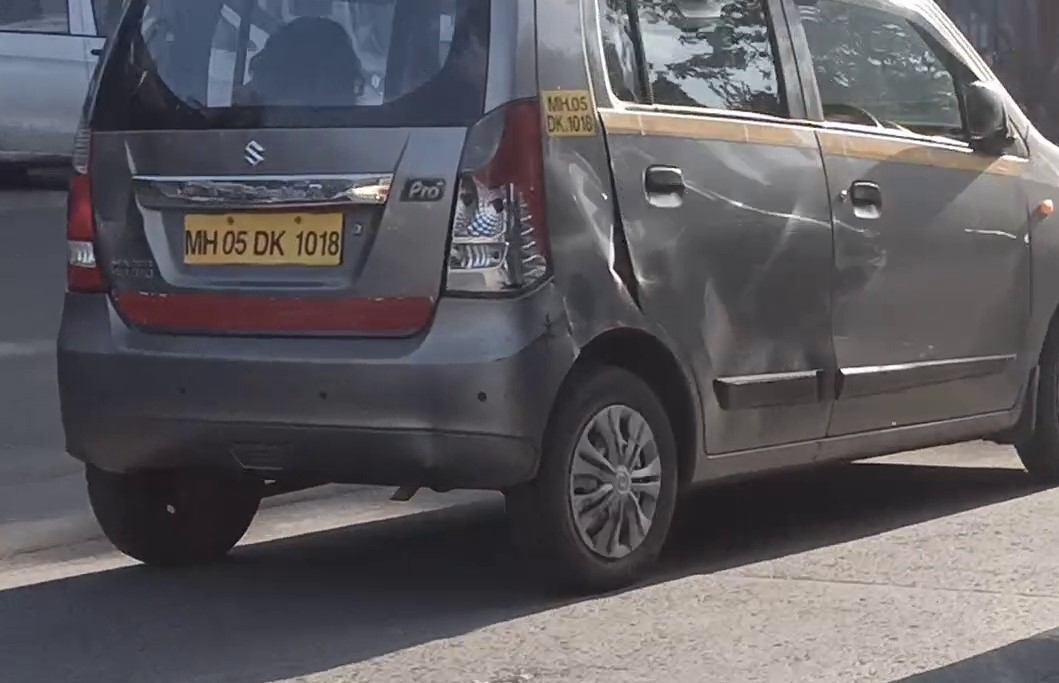MH05DK1018: (183, 212, 344, 264)
